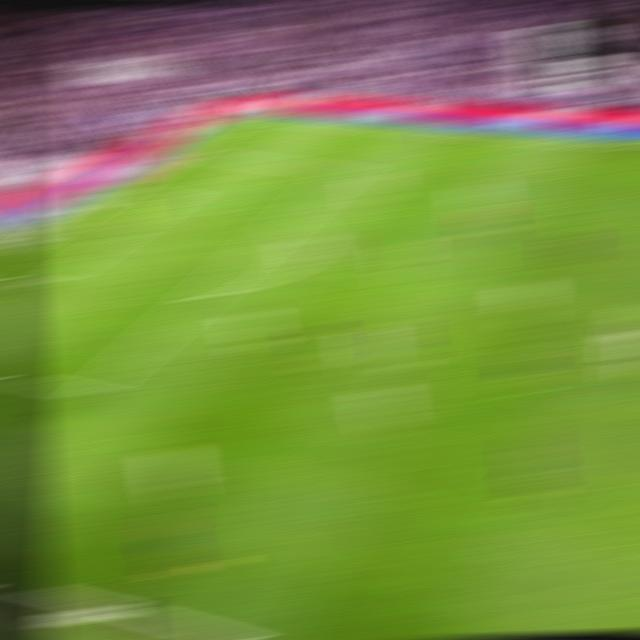bigarea_bottom_inner: (73, 381, 110, 402)
bigarea_top_inner: (329, 166, 360, 176)
bottom_arc_area_intersection: (185, 287, 221, 303)
corner: (232, 110, 265, 117)
smallarea_bottom_inner: (27, 277, 61, 292)
smallarea_top_inner: (162, 193, 190, 200)
top_arc_area_intersection: (273, 214, 304, 225)
